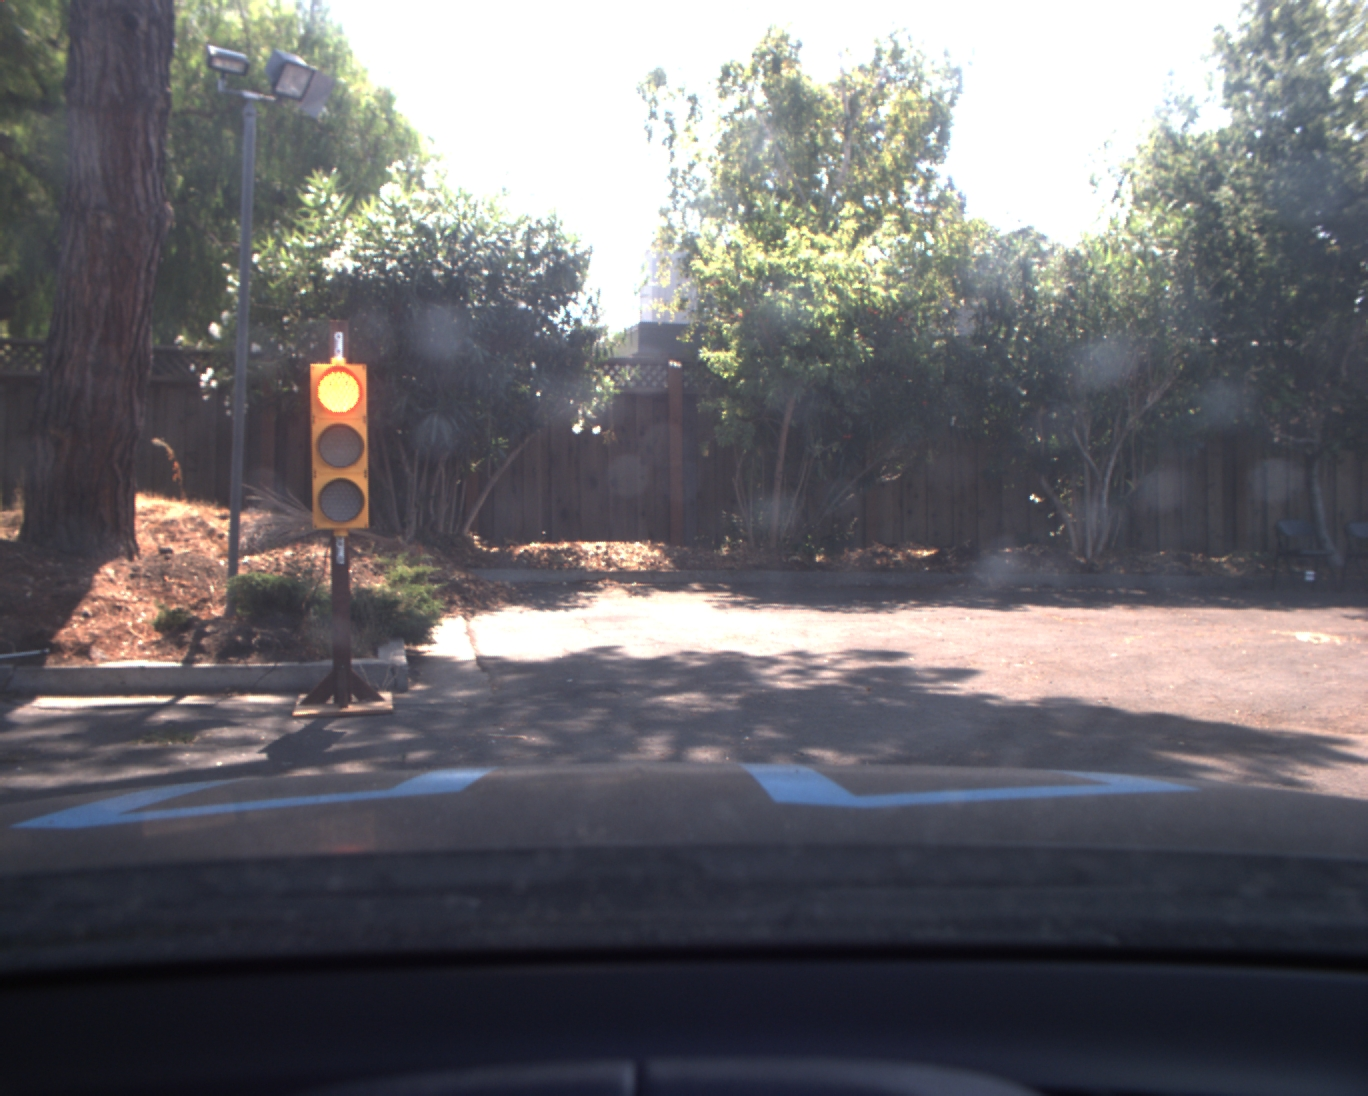red: (309, 362, 372, 533)
